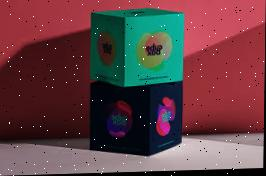cube: (91, 8, 185, 89), (90, 83, 183, 159)
